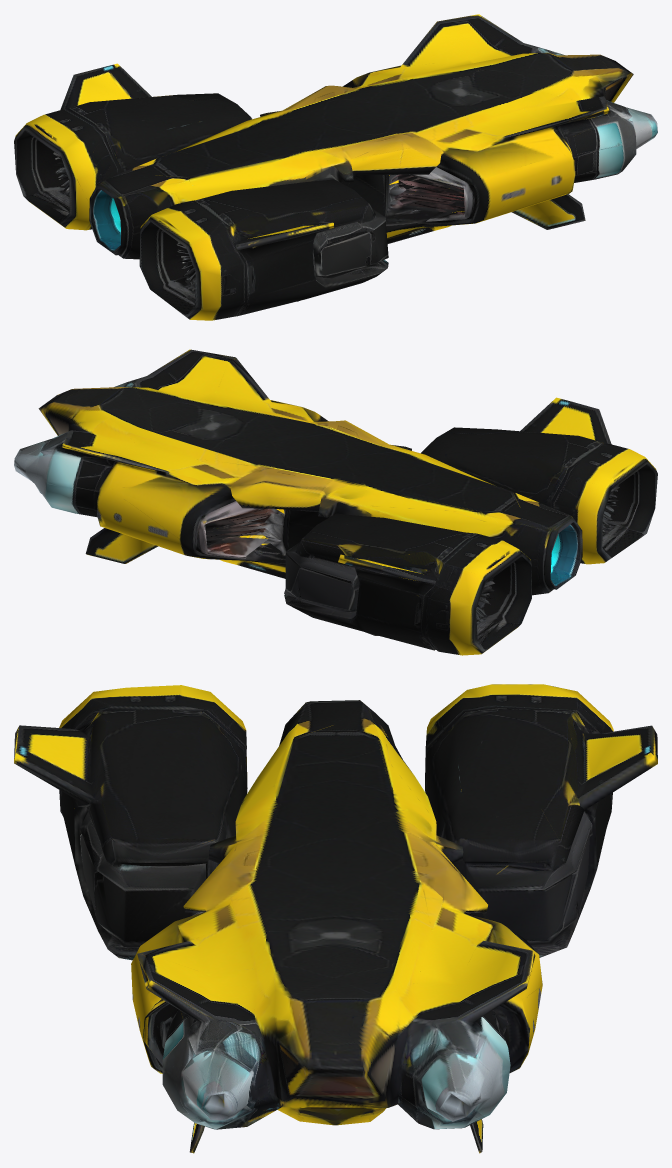
The model's file is racer_optimized-team4.glb.
The picture shows the model from 3 angles, top to bottom: view 1: azimuth 30°, elevation 25°; view 2: azimuth 150°, elevation 25°; view 3: azimuth 270°, elevation 25°; orthographic projection. The views are drawn at different scales.
Visible parts, largest first — view 1: Mesh_0; view 2: Mesh_0; view 3: Mesh_0.
Boxes of the visible parts, <box> form: Mesh_0: <box>14,14,657,320</box>; Mesh_0: <box>14,349,657,655</box>; Mesh_0: <box>14,684,657,1153</box>.
Bounding box in the file's own units: 1.9 × 0.4656 × 1.39.
Materials: 1 (1 with a texture image).
